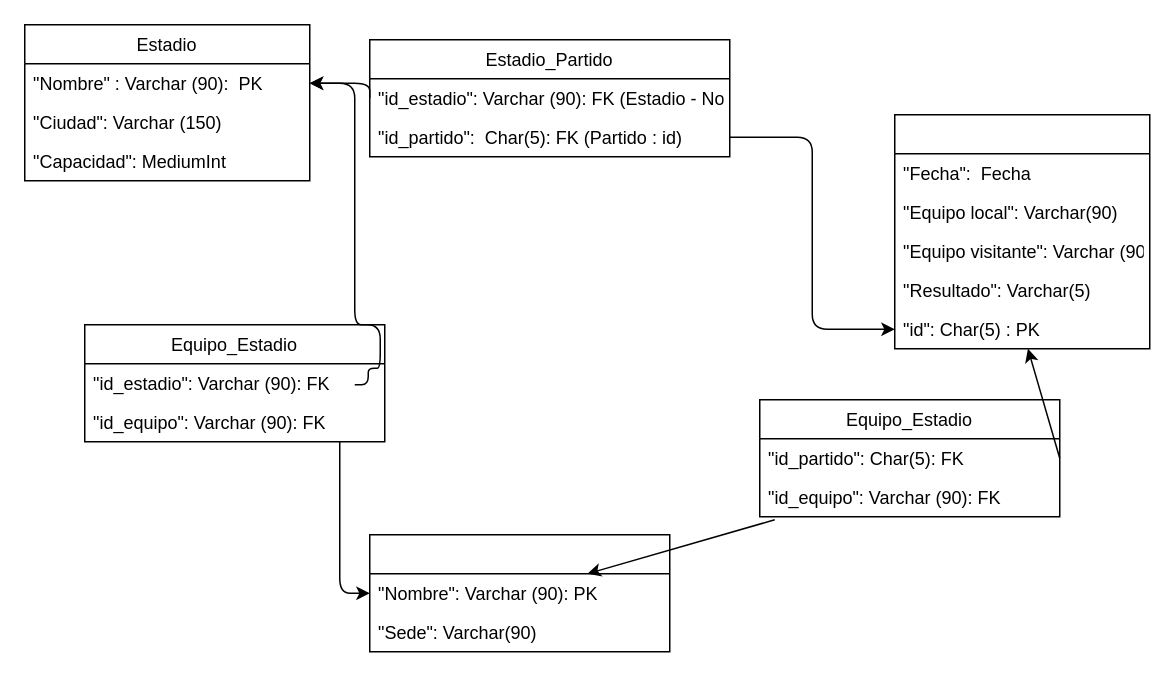
Image size: 1176x677. Some labels were removed from this diagram. Here are the shapes that lost their labels. From the top down, the box of each, then its label:
(893, 113, 1150, 349): Partido
(368, 533, 670, 652): Equipo
